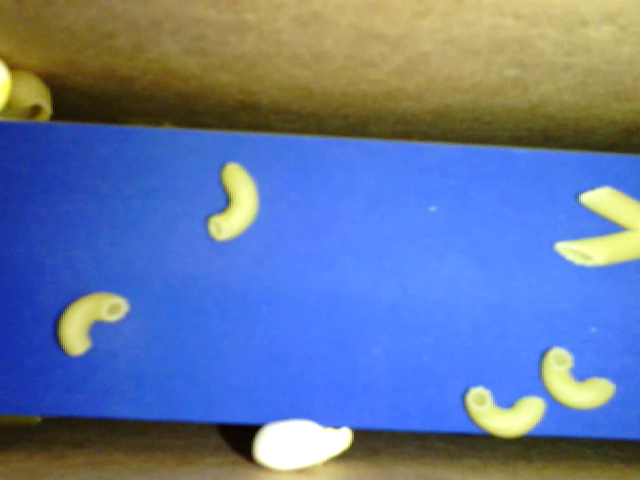elbow: (54, 292, 134, 360), (538, 341, 616, 408), (462, 384, 547, 438), (207, 162, 258, 243)
penne: (544, 229, 637, 272), (576, 181, 639, 233)
